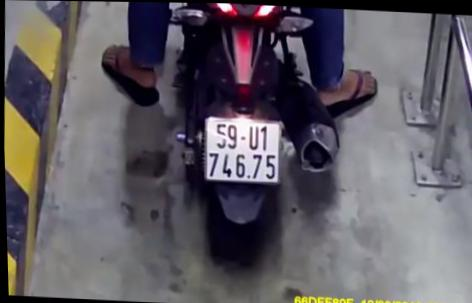LP: (199, 113, 284, 185)
